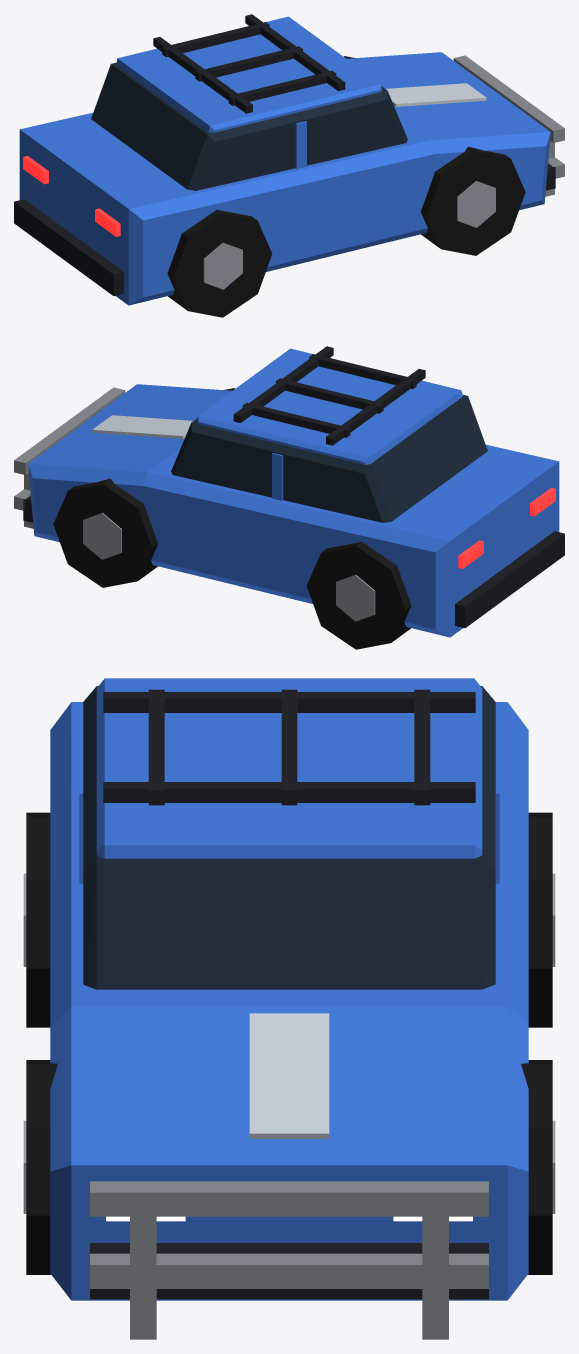
The model's file is car_brick.glb.
The picture shows the model from 3 angles, top to bottom: view 1: azimuth 30°, elevation 25°; view 2: azimuth 150°, elevation 25°; view 3: azimuth 270°, elevation 25°; orthographic projection. The views are drawn at different scales.
Parts seen in each view (by area): view 1: car; view 2: car; view 3: car.
Boxes of the visible parts, x1,y1,x2,y2 form: car: (14,14,564,317); car: (14,346,564,649); car: (23,678,555,1339).
Bounding box in the file's own units: 39.2 × 15.5 × 20.
